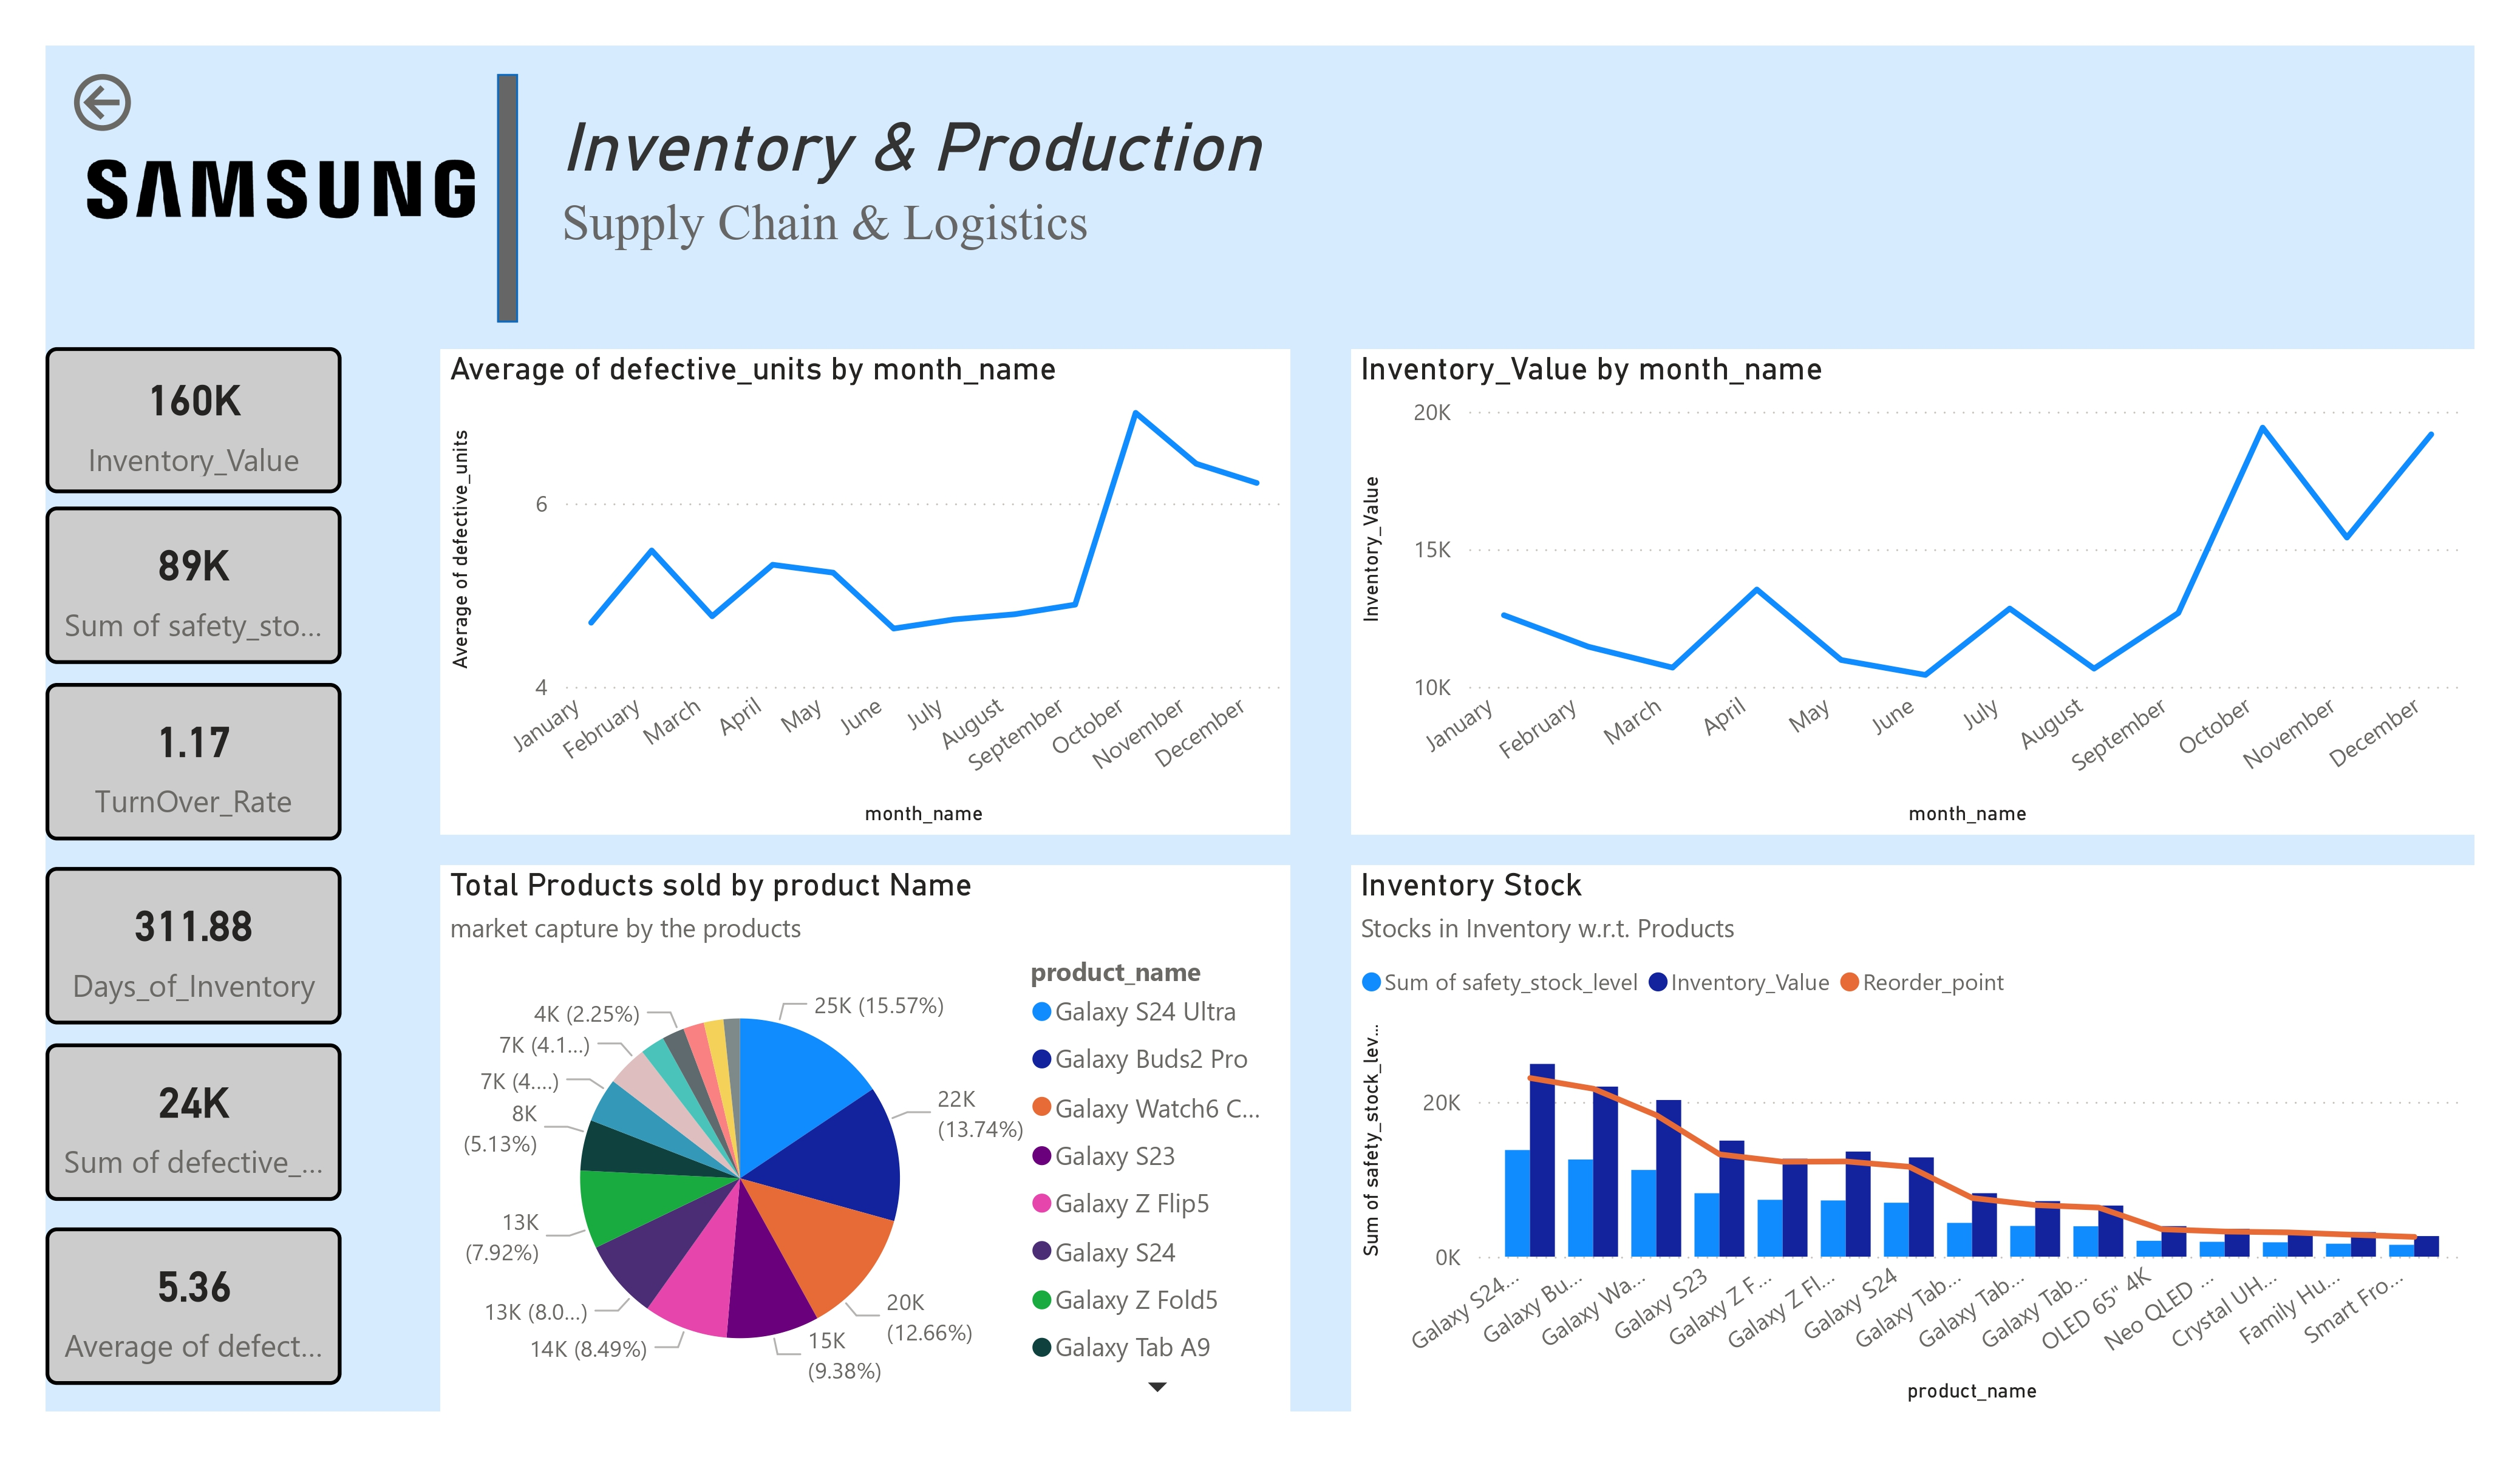

What the dashboard file says about the page in this screenshot:
{"tool":"powerbi","page":{"name":"Inventory","canvas":[1280,720],"ordinal":3},"visuals":[{"type":"shape","title":"Inventory & Production","box":[272,32,944,128],"z":0},{"type":"image","box":[0,0,237.5,148.8],"z":1000},{"type":"shape","box":[237.5,15,11.2,131.2],"z":2000},{"type":"card","fields":{"Values":["fact_inventory.Days_of_Inventory"]},"box":[0,432.9,155.7,82.9],"z":3000},{"type":"card","fields":{"Values":["Sum(fact_inventory.safety_stock_level)"]},"box":[0,242.9,155.7,82.9],"z":4000},{"type":"card","fields":{"Values":["Sum(fact_production.defective_units)"]},"box":[0,525.7,155.7,82.9],"z":5000},{"type":"card","fields":{"Values":["Avg(fact_production.defective_units)"]},"box":[0,622.9,155.7,82.9],"z":6000},{"type":"card","fields":{"Values":["fact_inventory.TurnOver_Rate"]},"box":[0,335.7,155.7,82.9],"z":7000},{"type":"card","fields":{"Values":["MEASURES_TABLE.Inventory_Value"]},"box":[0,158.6,155.7,77.1],"z":8000},{"type":"pieChart","title":"Total Products sold by product Name","fields":{"Category":["dim_product.product_name"],"Y":["MEASURES_TABLE.Inventory_Value"]},"box":[208,432,448,288],"z":9000},{"type":"lineClusteredColumnComboChart","title":"Inventory Stock","fields":{"Category":["dim_product.product_name"],"Y":["Sum(fact_inventory.safety_stock_level)","MEASURES_TABLE.Inventory_Value"],"Y2":["MEASURES_TABLE.Reorder_point"]},"box":[688,432,592,288],"z":10000},{"type":"lineChart","fields":{"Y":["Avg(fact_production.defective_units)"],"Category":["dim_date.month_name"]},"box":[208,160,448,256],"z":11000},{"type":"lineChart","fields":{"Y":["MEASURES_TABLE.Inventory_Value"],"Category":["dim_date.month_name"]},"box":[688,160,592,256],"z":12000},{"type":"actionButton","box":[10,10,100,40],"z":13000}]}

Visuals, with their boxes in screenshot pixels (x1, y1, x2, y2):
"Inventory & Production" shape: <region>562, 106, 2353, 349</region>
image: <region>46, 46, 496, 328</region>
shape: <region>496, 74, 517, 323</region>
card - fact_inventory.Days_of_Inventory: <region>46, 867, 341, 1024</region>
card - Sum(fact_inventory.safety_stock_level): <region>46, 506, 341, 664</region>
card - Sum(fact_production.defective_units): <region>46, 1043, 341, 1200</region>
card - Avg(fact_production.defective_units): <region>46, 1228, 341, 1385</region>
card - fact_inventory.TurnOver_Rate: <region>46, 682, 341, 840</region>
card - MEASURES_TABLE.Inventory_Value: <region>46, 347, 341, 493</region>
"Total Products sold by product Name" pieChart: <region>440, 865, 1290, 1411</region>
"Inventory Stock" lineClusteredColumnComboChart: <region>1351, 865, 2474, 1411</region>
lineChart - Avg(fact_production.defective_units) x dim_date.month_name: <region>440, 349, 1290, 835</region>
lineChart - MEASURES_TABLE.Inventory_Value x dim_date.month_name: <region>1351, 349, 2474, 835</region>
actionButton: <region>64, 64, 254, 140</region>
